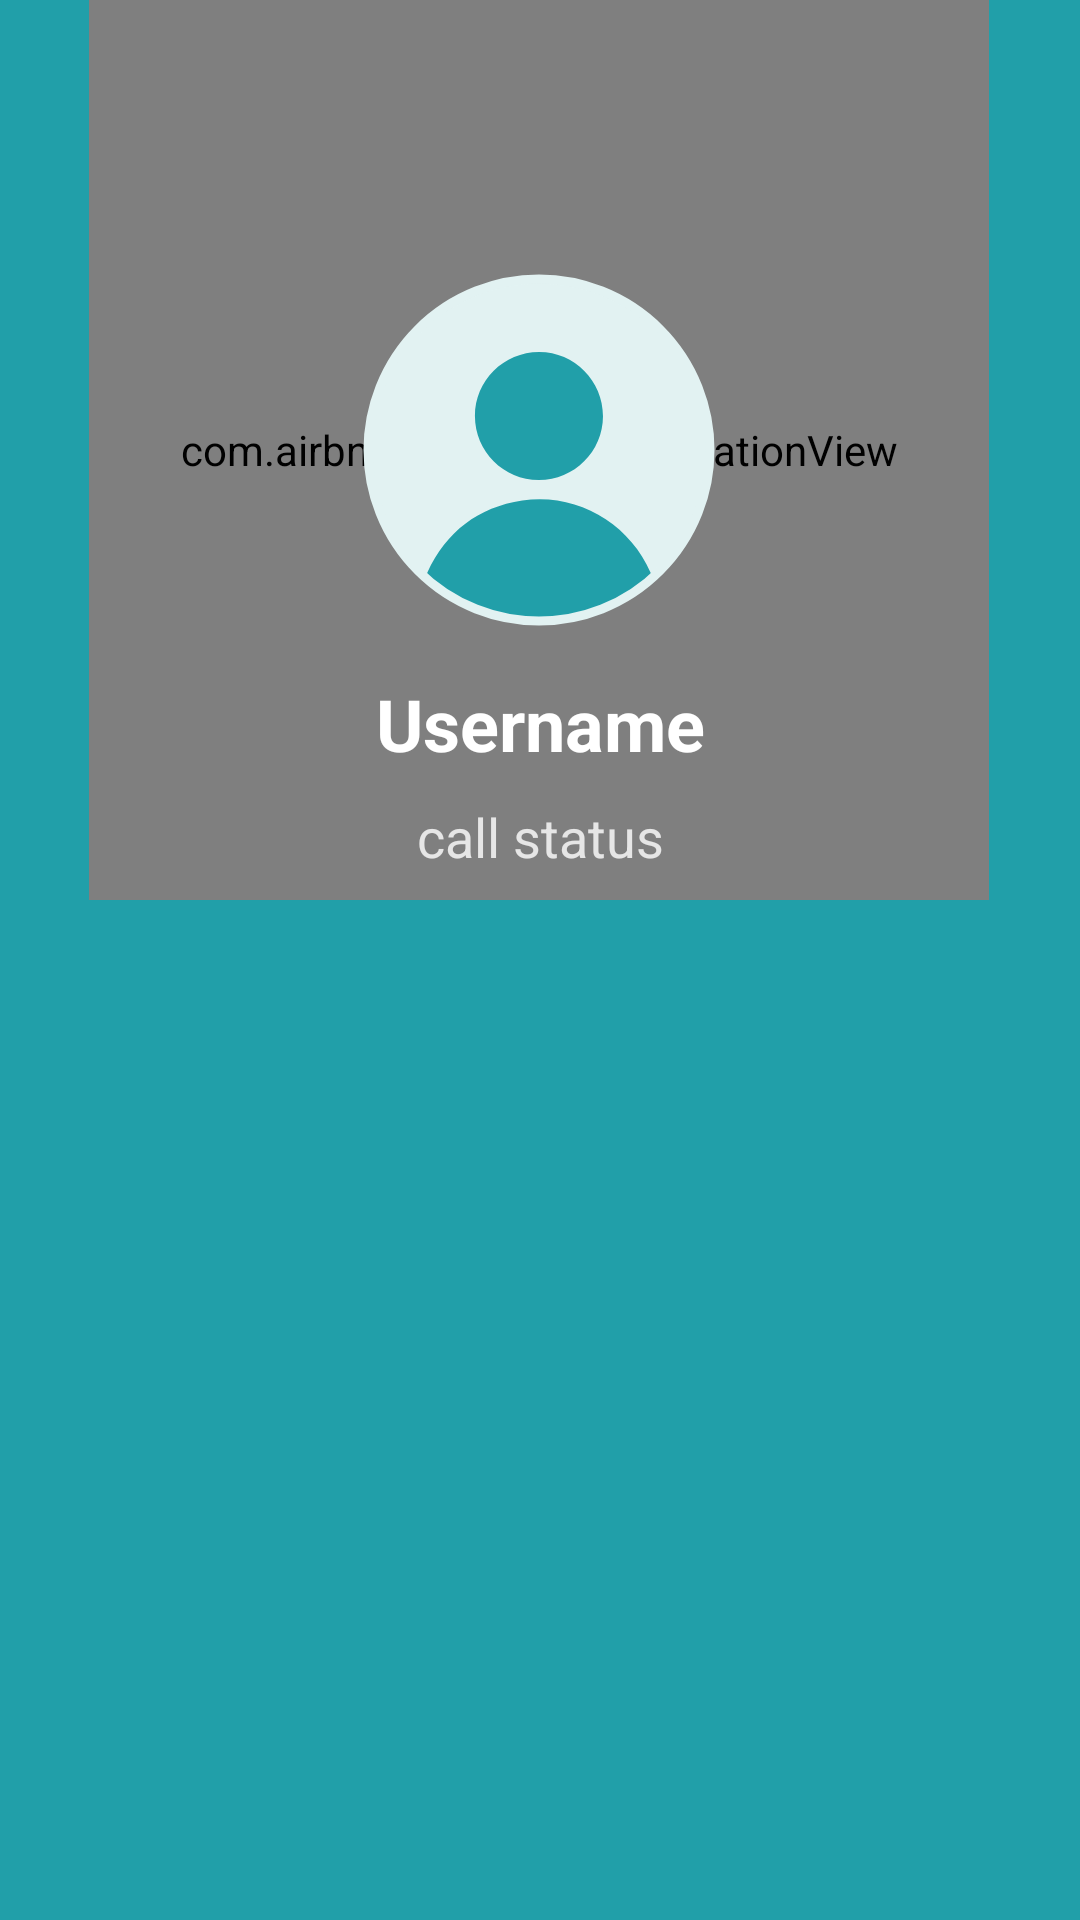

Icons on this 1080px x 1920px Android screen, each with the point to tap as [x,y]:
enter profile: [539,450]
